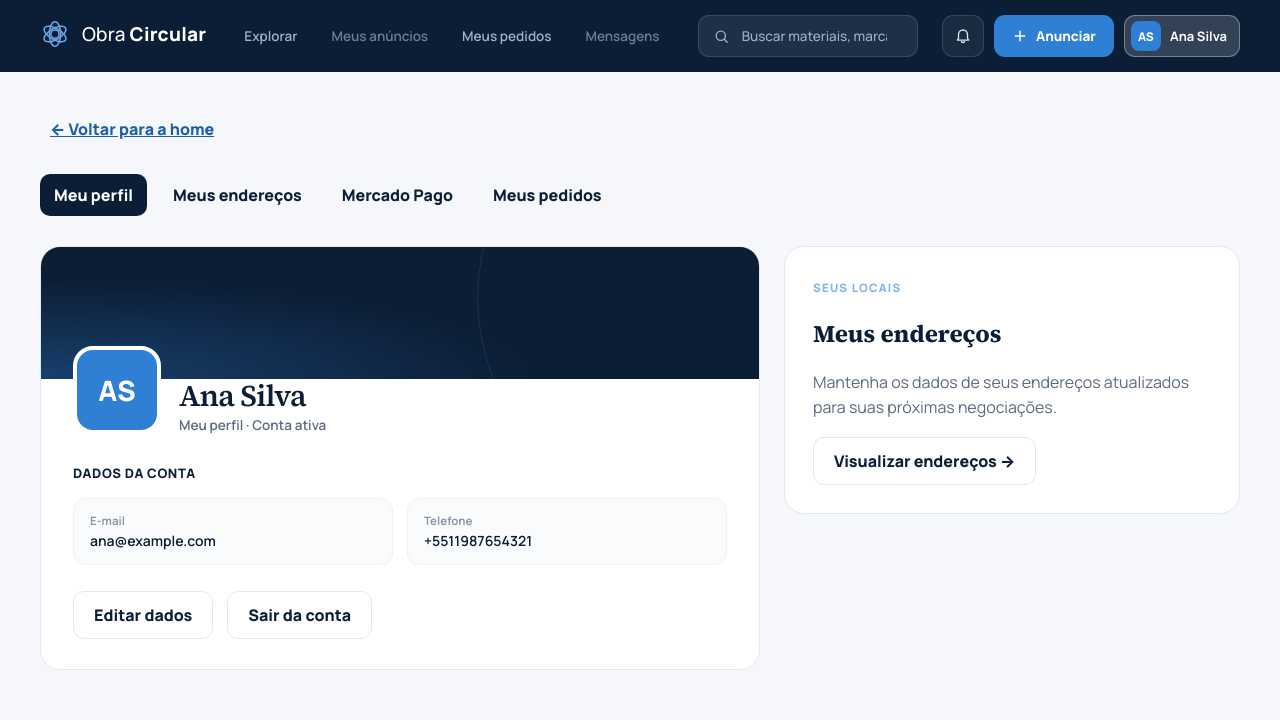
Scenario: carrega o perfil autenticado e cancela alterações sem gravar
This screenshot has width=1280, height=720.
Click the button "Editar dados".
click(143, 615)  # box [73, 591, 213, 639]
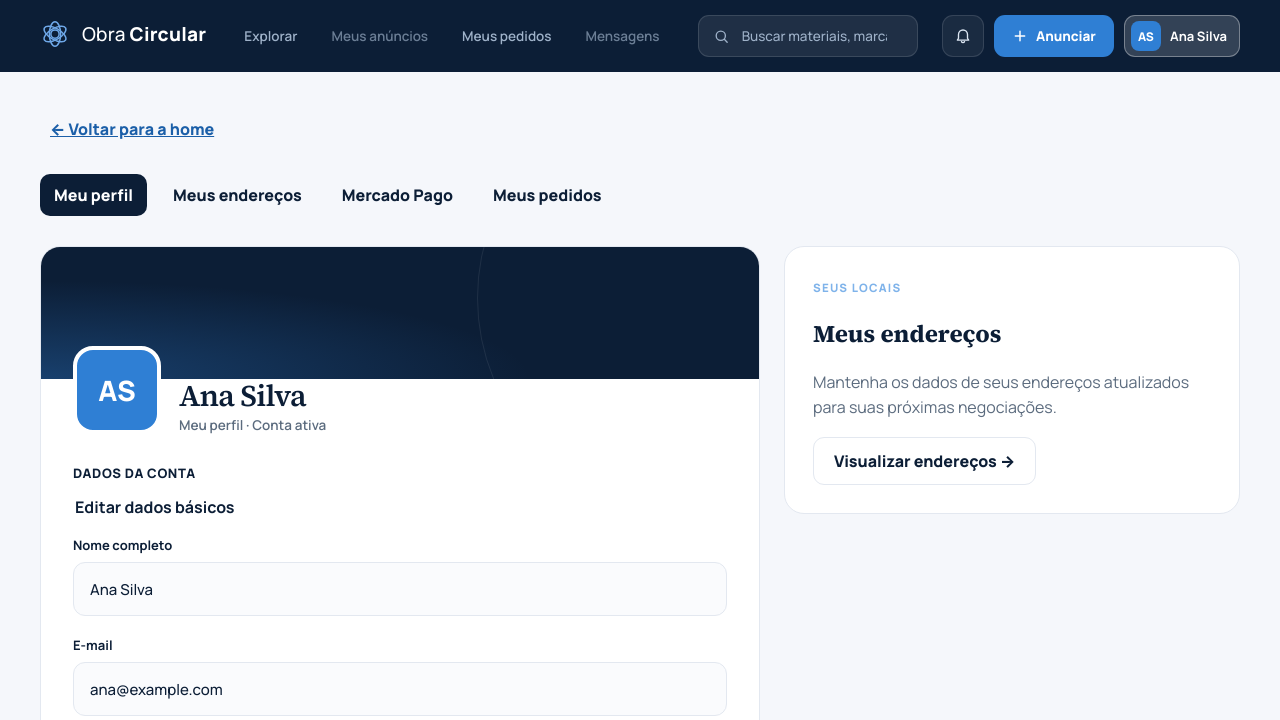
Replace the text in the field labelled "Nome completo" with "Outro nome" at (400, 589), box [90, 563, 710, 615]
(page scrolled)
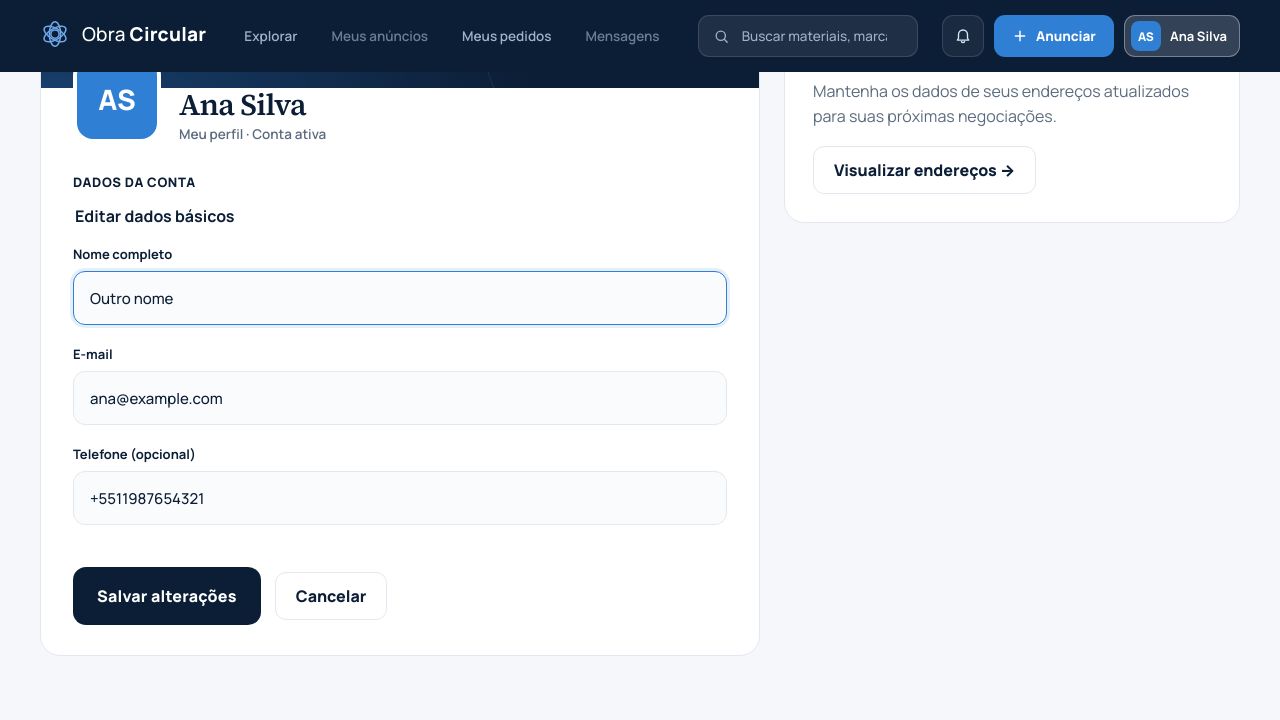
Click the button "Cancelar".
click(331, 596)  # box [275, 572, 388, 620]
(page scrolled)
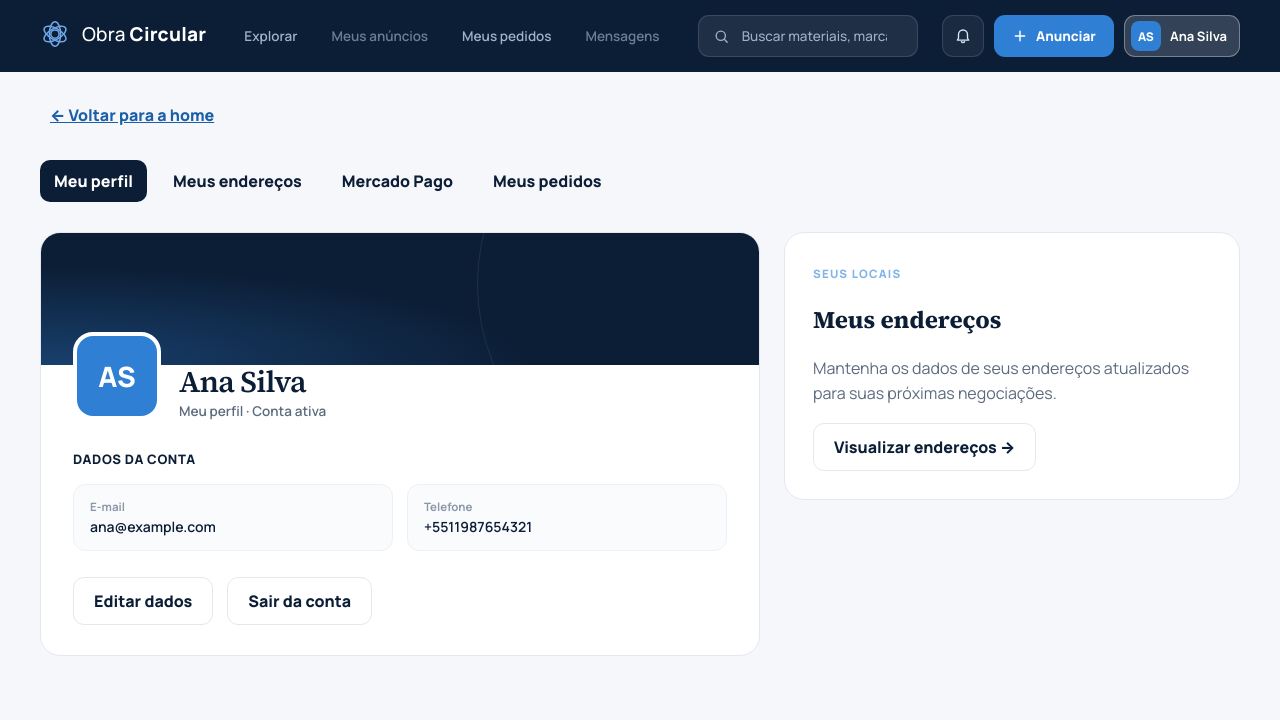
Expected: the heading "Ana Silva" is shown, [179, 365, 326, 398]
Click the button "Editar dados".
click(143, 601)  # box [73, 577, 213, 625]
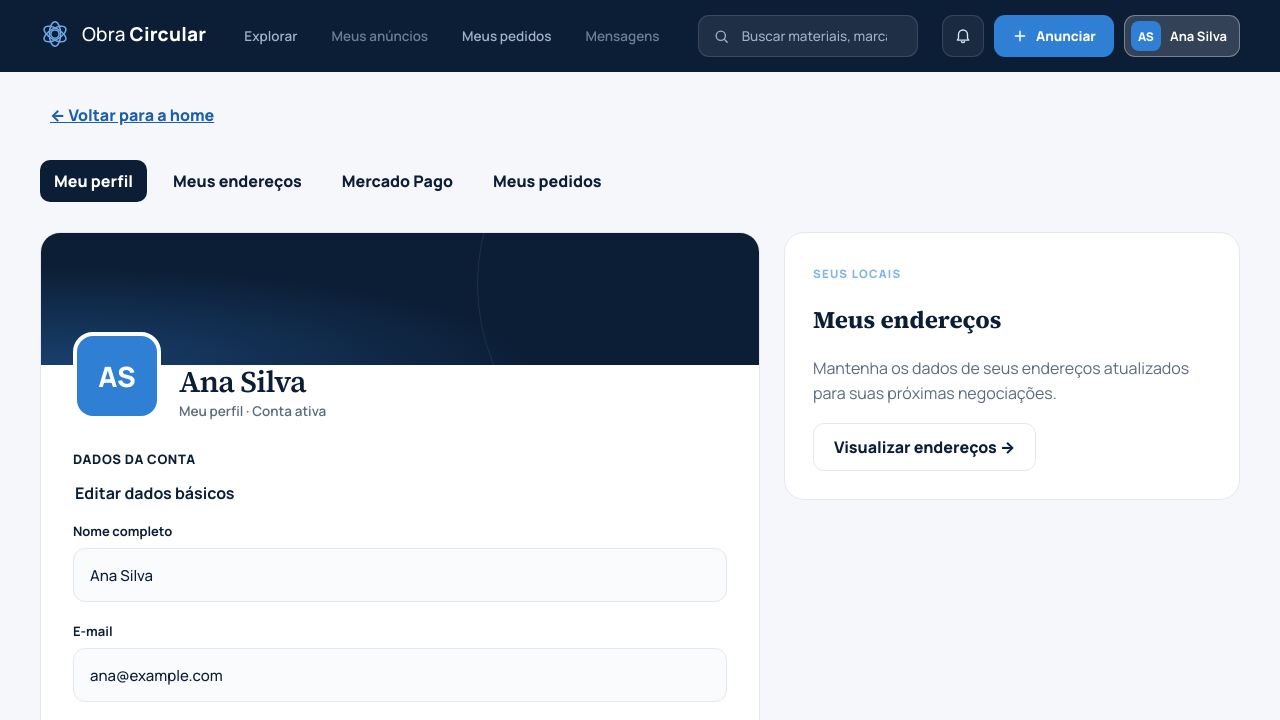
Result: the field labelled "Nome completo" holds "Ana Silva" at [90, 549, 710, 601]
